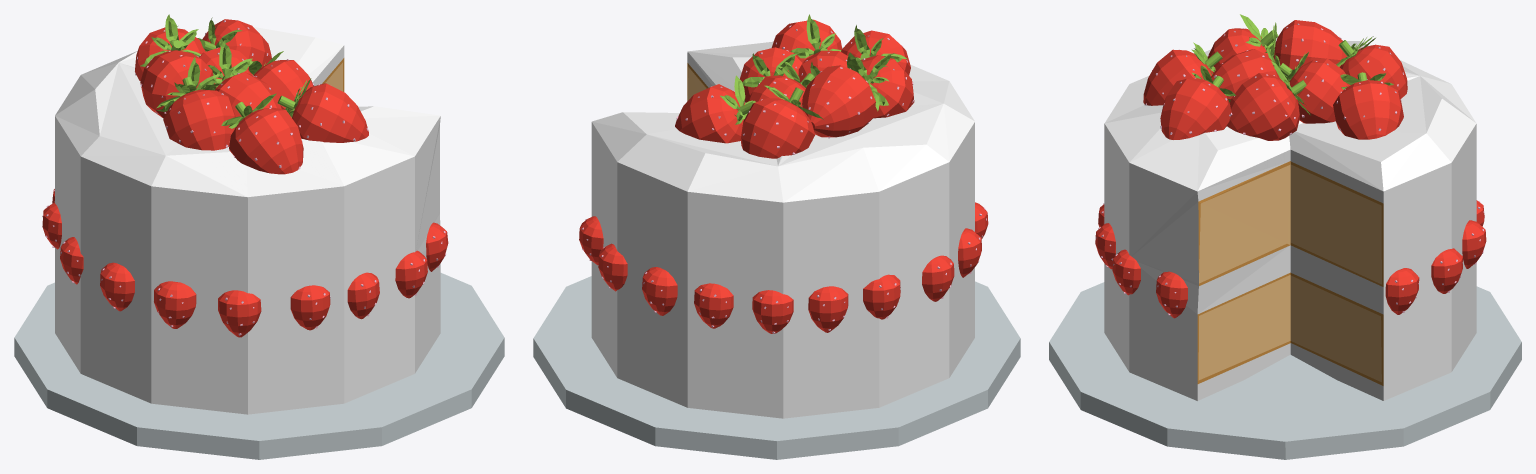
The model's file is Strawberry Shortcake.glb.
The picture shows the model from 3 angles, left to right: view 1: azimuth 30°, elevation 25°; view 2: azimuth 150°, elevation 25°; view 3: azimuth 270°, elevation 25°; orthographic projection. The views are drawn at different scales.
Visible parts, largest first — view 1: Node; view 2: Node; view 3: Node.
Part boxes in pixels (x1=…): Node: x1=14, y1=14, x2=504, y2=459; Node: x1=533, y1=14, x2=1020, y2=459; Node: x1=1049, y1=14, x2=1521, y2=459.
Size of the model in its own units: 0.94 by 0.6774 by 0.94.
